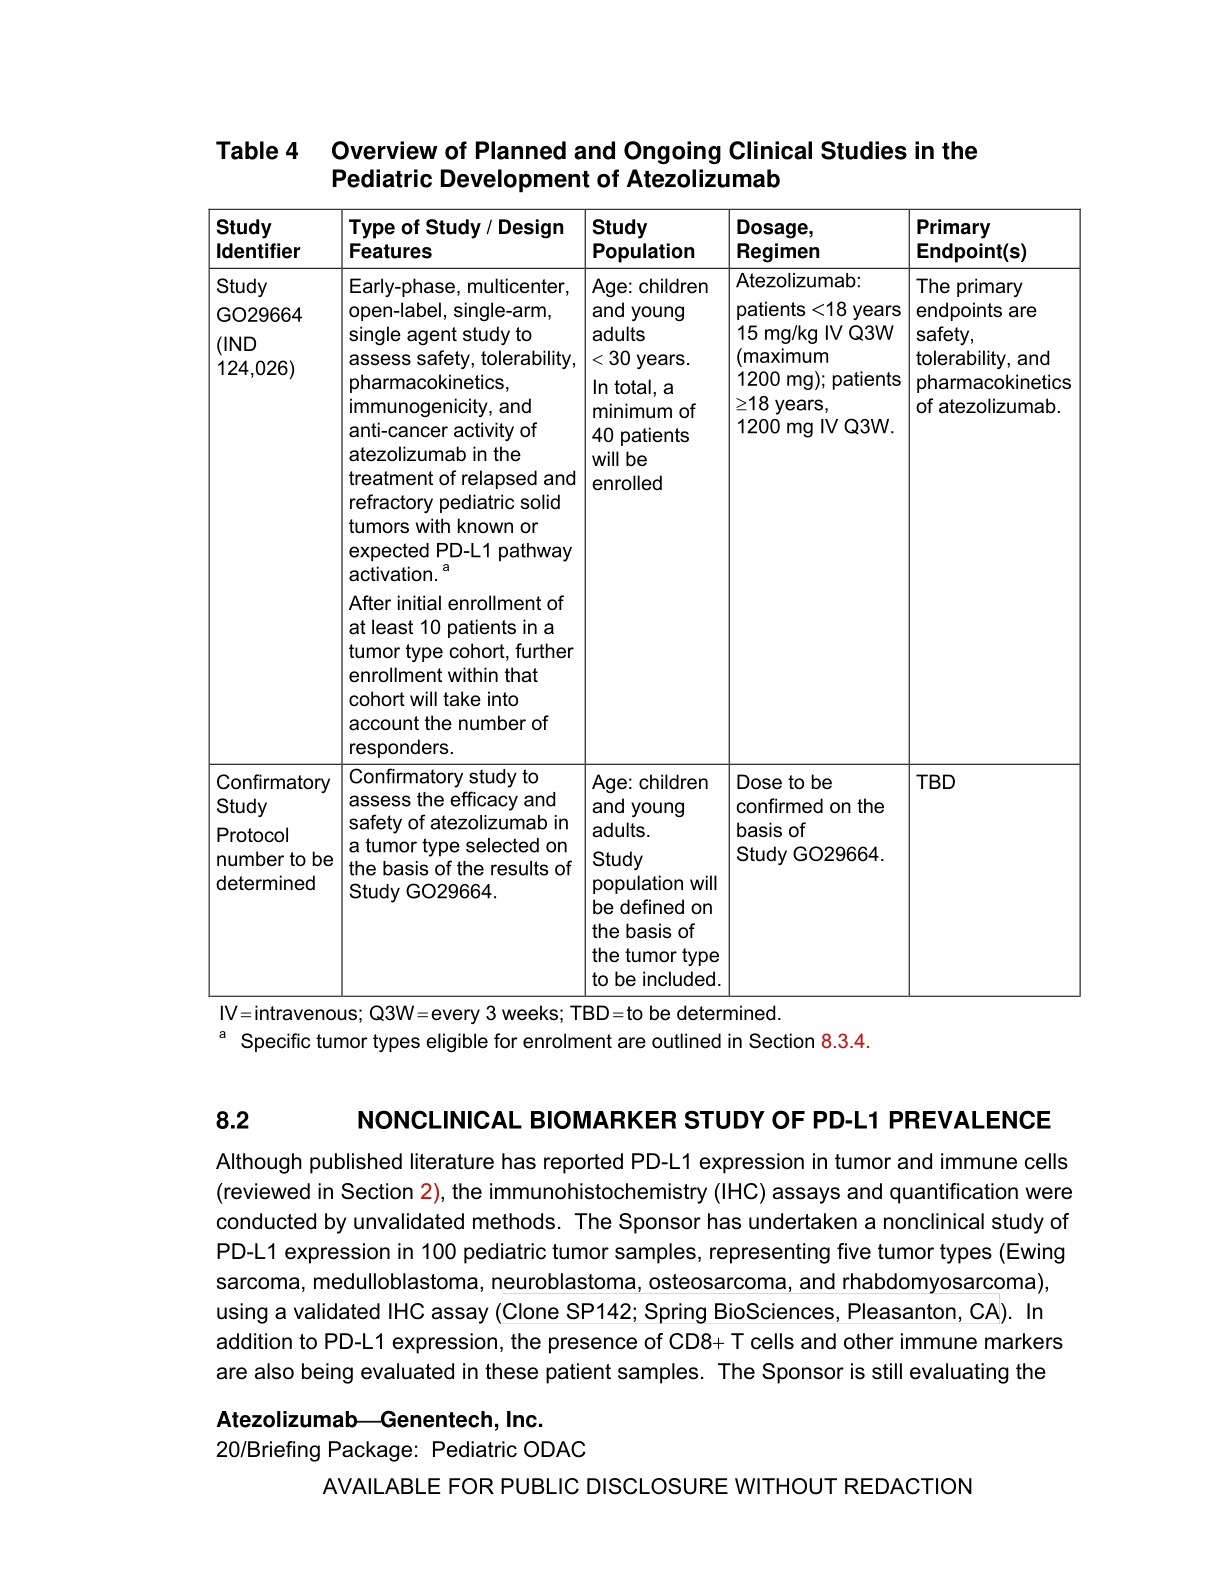full_lined: (208, 207, 1083, 998)
